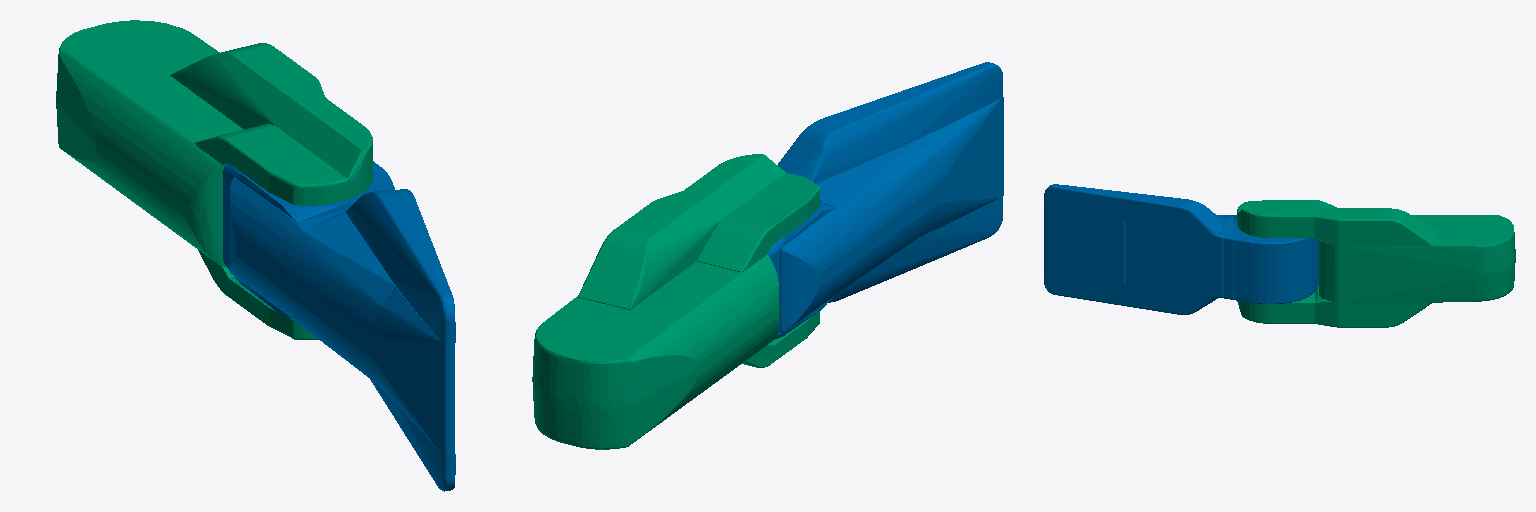
robot.urdf — ezgripper_stand_alone:
<?xml version="1.0" ?>
<!-- source: https://github.com/SAKErobotics/EZGripper/tree/master/ezgripper_driver -->
<!-- =================================================================================== -->
<!-- |    This document was autogenerated by xacro from [local-path]/research/grasp/catkin_ws/src/EZGripper/ezgripper_driver/urdf/ezgripper_dual_gen2_standalone.urdf.xacro | -->
<!-- |    EDITING THIS FILE BY HAND IS NOT RECOMMENDED                                 | -->
<!-- =================================================================================== -->
<robot name="ezgripper_stand_alone" xmlns:xacro="http://ros.org/wiki/xacro">
  <!-- links -->
  <link name="left_ezgripper_palm_link">
    <!--<visual>
      <origin rpy="0 0 0" xyz="0 0 0"/>
      <geometry>
        <mesh filename="meshes/SAKE_Palm_Dual_Gen2_vhacd.obj"/>
      </geometry>
    </visual>-->
    <collision>
      <origin rpy="0 0 0" xyz="0 0 0"/>
      <geometry>
        <mesh filename="meshes/SAKE_Palm_Dual_Gen2_vhacd.obj"/>
      </geometry>
    </collision>
    <inertial>
      <mass value=".3"/>
      <inertia ixx="0.01" ixy="0.0" ixz="0.0" iyy="0.01" iyz="0.0" izz="0.01"/>
    </inertial>
  </link>
<!-- removing fixed links/joints
<joint name="left_ezgripper_connect" type="fixed">
    <origin rpy="0 0 0" xyz="0.0 0.0 0.0"/>
    <parent link="base_link"/>
    <child link="left_ezgripper_palm_link"/>
    <axis xyz="0 0 0"/>
    <limit effort="0" lower="-1.57075" upper="0.25" velocity="3.67"/>
  </joint>
  -->
  <link name="left_ezgripper_finger_L1_1">
    <!--<visual>
      <origin rpy="0 0 0" xyz="0 0 0"/>
      <geometry>
        <mesh filename="meshes/SAKE_Finger_L1_Gen2_vhacd.obj"/>
      </geometry>
    </visual>-->
    <collision>
      <origin rpy="0 0 0" xyz="0 0 0"/>
      <geometry>
        <mesh filename="meshes/SAKE_Finger_L1_Gen2_vhacd.obj"/>
      </geometry>
    </collision>
    <inertial>
      <mass value=".025"/>
      <inertia ixx="0.01" ixy="0.0" ixz="0.0" iyy="0.01" iyz="0.0" izz="0.01"/>
    </inertial>
  </link>
  <link name="left_ezgripper_finger_L1_2">
    <visual>
      <origin rpy="0 0 0" xyz="0 0 0"/>
      <geometry>
        <mesh filename="meshes/SAKE_Finger_L1_Gen2_vhacd.obj"/>
      </geometry>
    </visual>
    <collision>
      <origin rpy="0 0 0" xyz="0 0 0"/>
      <geometry>
        <mesh filename="meshes/SAKE_Finger_L1_Gen2_vhacd.obj"/>
      </geometry>
    </collision>
    <inertial>
      <mass value=".025"/>
      <inertia ixx="0.01" ixy="0.0" ixz="0.0" iyy="0.01" iyz="0.0" izz="0.01"/>
    </inertial>
  </link>
  <link name="left_ezgripper_finger_L2_1">
    <!--<visual>
      <origin rpy="0 0 0" xyz="0 0 0"/>
      <geometry>
        <mesh filename="meshes/SAKE_Finger_L2_Gen2_vhacd.obj"/>
      </geometry>
    </visual>-->
    <collision>
      <origin rpy="0 0 0" xyz="0 0 0"/>
      <geometry>
        <mesh filename="meshes/SAKE_Finger_L2_Gen2_vhacd.obj"/>
      </geometry>
    </collision>
    <inertial>
      <mass value=".025"/>
      <inertia ixx="0.01" ixy="0.0" ixz="0.0" iyy="0.01" iyz="0.0" izz="0.01"/>
    </inertial>
  </link>
  <link name="left_ezgripper_finger_L2_2">
    <visual>
      <origin rpy="0 0 0" xyz="0 0 0"/>
      <geometry>
        <mesh filename="meshes/SAKE_Finger_L2_Gen2_vhacd.obj"/>
      </geometry>
    </visual>
    <collision>
      <origin rpy="0 0 0" xyz="0 0 0"/>
      <geometry>
        <mesh filename="meshes/SAKE_Finger_L2_Gen2_vhacd.obj"/>
      </geometry>
    </collision>
    <inertial>
      <mass value=".025"/>
      <inertia ixx="0.01" ixy="0.0" ixz="0.0" iyy="0.01" iyz="0.0" izz="0.01"/>
    </inertial>
  </link>
  <joint name="left_ezgripper_knuckle_palm_L1_1" type="revolute">
    <parent link="left_ezgripper_palm_link"/>
    <child link="left_ezgripper_finger_L1_1"/>
    <origin rpy="-1.5708 0 1.57075" xyz="0.072569 0.03 0"/>
    <axis xyz="0 1 0"/>
    <limit effort="1" lower="0" upper="1.94" velocity="3.67"/>
  </joint>
  <joint name="left_ezgripper_knuckle_palm_L1_2" type="revolute">
    <parent link="left_ezgripper_palm_link"/>
    <child link="left_ezgripper_finger_L1_2"/>
    <origin rpy="1.5708 0 -1.57075" xyz="0.072569 -0.03 0"/>
    <axis xyz="0 1 0"/>
    <limit effort="1" lower="0" upper="1.94" velocity="3.67"/>
    <mimic joint="left_ezgripper_knuckle_palm_L1_1"/>
  </joint>
  <joint name="left_ezgripper_knuckle_L1_L2_1" type="revolute">
    <parent link="left_ezgripper_finger_L1_1"/>
    <child link="left_ezgripper_finger_L2_1"/>
    <origin rpy="0 0 0" xyz="0.052 0 0"/>
    <axis xyz="0 1 0"/>
    <limit effort="1" lower="0" upper="1.94" velocity="3.67"/>
  </joint>
  <joint name="left_ezgripper_knuckle_L1_L2_2" type="revolute">
    <parent link="left_ezgripper_finger_L1_2"/>
    <child link="left_ezgripper_finger_L2_2"/>
    <origin rpy="0 0 0" xyz="0.052 0 0"/>
    <axis xyz="0 1 0"/>
    <limit effort="1" lower="0" upper="1.94" velocity="3.67"/>
    <mimic joint="left_ezgripper_knuckle_L1_L2_1"/>
  </joint>
  <transmission name="left_ezgripper_trans_L1_L2_1">
    <type>transmission_interface/SimpleTransmission</type>
    <joint name="left_ezgripper_knuckle_L1_L2_1">
      <hardwareInterface>hardware_interface/PositionJointInterface</hardwareInterface>
    </joint>
    <actuator name="left_ezgripper_motorL1_L2_1">
      <mechanicalReduction>1</mechanicalReduction>
      <hardwareInterface>hardware_interface/PositionJointInterface</hardwareInterface>
    </actuator>
  </transmission>
  <gazebo>
    <plugin filename="libgazebo_ros_joint_state_publisher.so" name="joint_state_publisher">
      <jointName>left_ezgripper_knuckle_L1_L2_1,left_ezgripper_knuckle_L1_L2_2</jointName>
    </plugin>
  </gazebo>
  <!-- removing fixed links/joints
  <link name="world"/>
  <joint name="fixed" type="fixed">
    <parent link="world"/>
    <child link="base_link"/>
  </joint>
  <link name="base_link">
    <inertial>
        <mass value="0" />
        <origin xyz="0 0 0" />
        <inertia  ixx="1.0" ixy="0.0"  ixz="0.0"  iyy="1.0"  iyz="0.0"  izz="1.0" />
    </inertial>
  </link>
  -->
</robot>

--- What the picture shows (computed from the rendered views, not written in the file) ---
Views: 3 orthographic renders of the robot side by side, from view 1: azimuth 30°, elevation 25°; view 2: azimuth 150°, elevation 25°; view 3: azimuth 270°, elevation 25°.
Robot: ezgripper_stand_alone — 5 links, 4 joints (4 revolute); root link left_ezgripper_palm_link; default pose: all joints at 0.
Visible links, largest first — view 1: left_ezgripper_finger_L1_2, left_ezgripper_finger_L2_2; view 2: left_ezgripper_finger_L1_2, left_ezgripper_finger_L2_2; view 3: left_ezgripper_finger_L2_2, left_ezgripper_finger_L1_2.
Link boxes in pixels (x1,y1,x2,y2): left_ezgripper_finger_L1_2: (56,20,372,339); left_ezgripper_finger_L2_2: (223,161,455,491); left_ezgripper_finger_L1_2: (532,154,819,449); left_ezgripper_finger_L2_2: (768,62,1003,339); left_ezgripper_finger_L2_2: (1044,184,1318,314); left_ezgripper_finger_L1_2: (1237,200,1515,327).
Size in the robot's own frame: 0.0226 by 0.1187 by 0.0302 metres.
Meshes: 2 distinct files referenced, 2 mesh visuals loaded (2 OBJ).